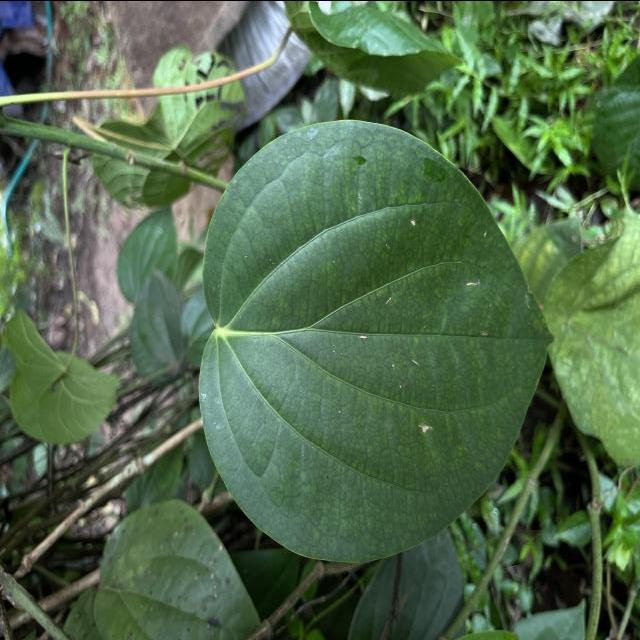Piper nigrum: (195, 115, 558, 566)
